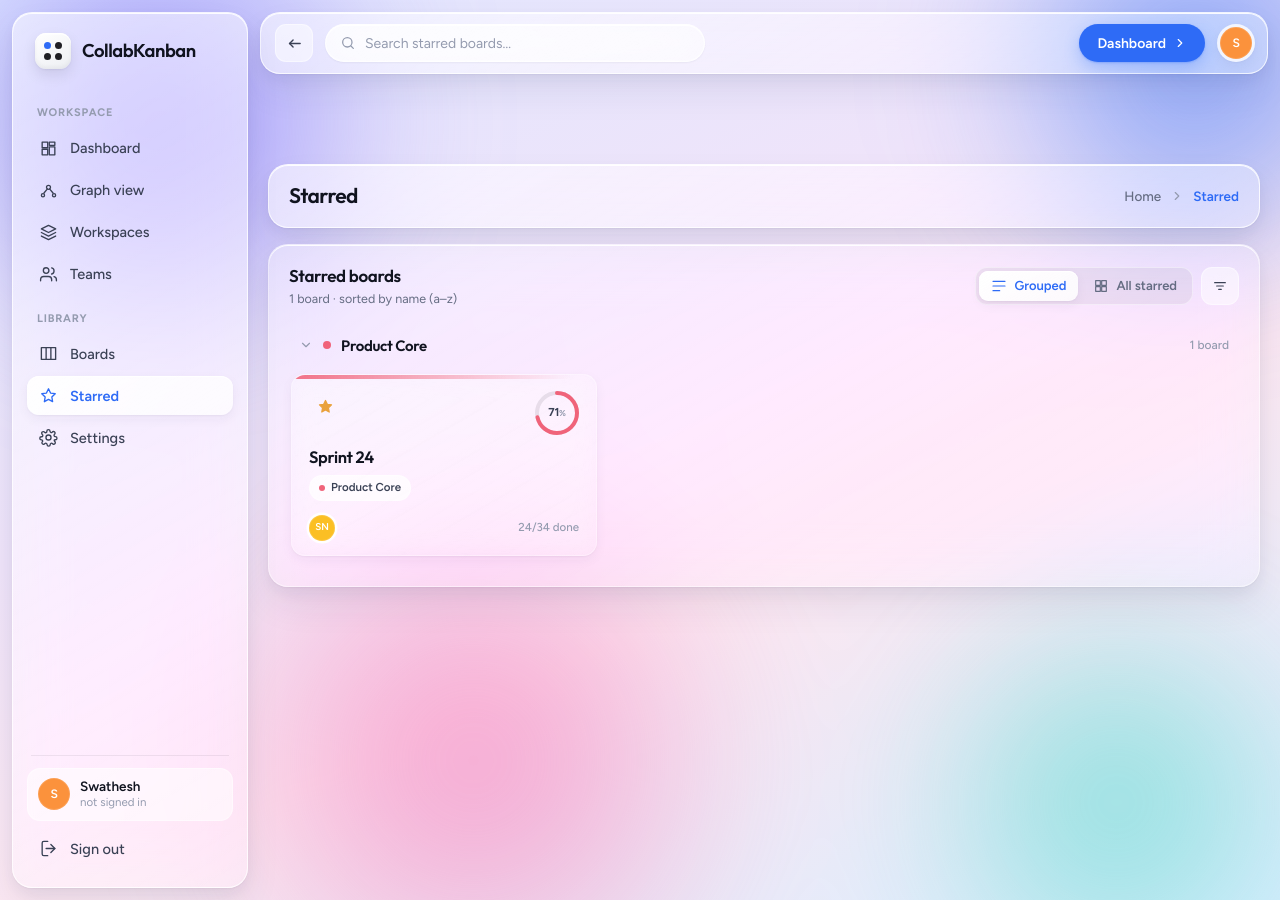
it: StarredPage › drops a board off the page as soon as it is unstarred
Expected: the heading "Sprint 24" is shown, [309,446,374,467]
Click the button named "Unstar Sprint 24".
click(325, 407)  # box [309,391,341,423]
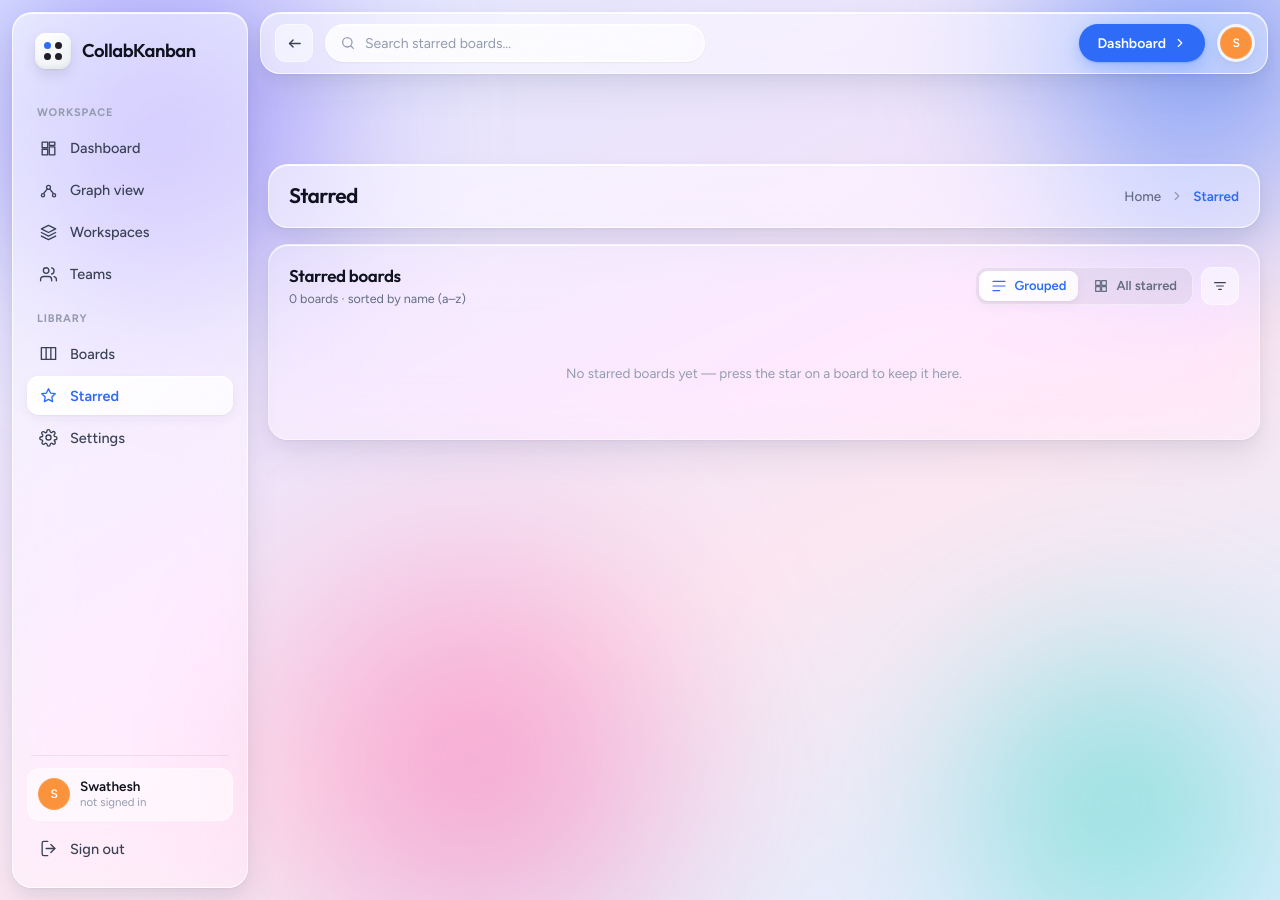
Now the button "Sprint 24" is gone
